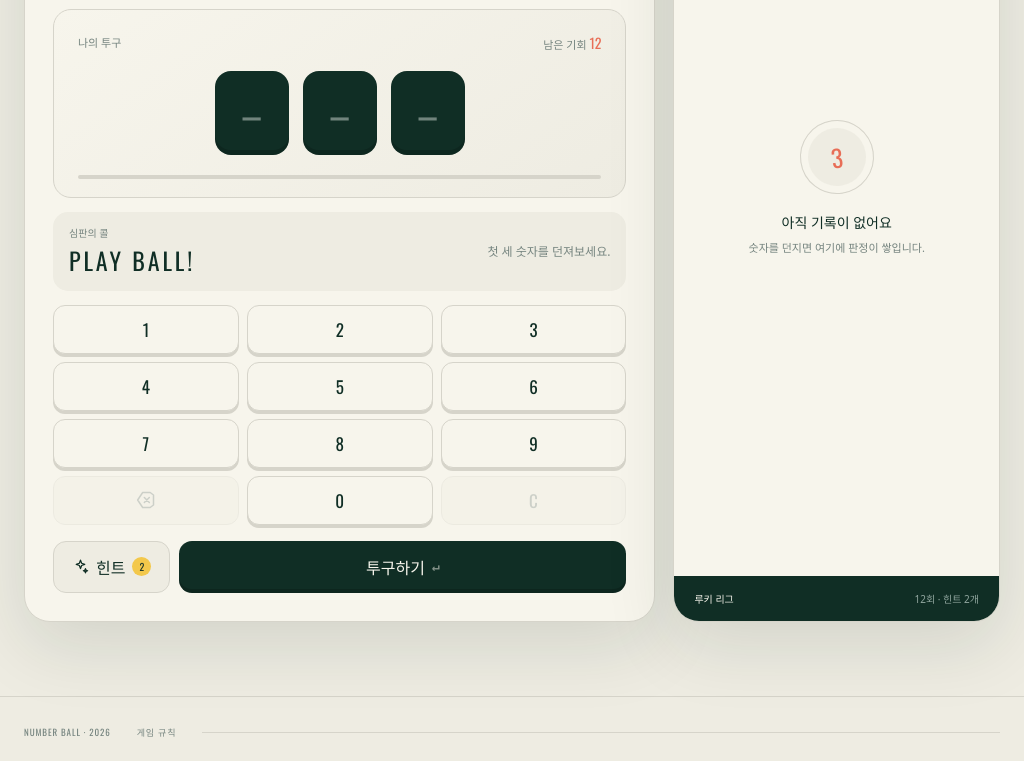
Test: App › uses a hint and persists the eliminated digit
This screenshot has width=1024, height=761.
(page scrolled)
What coordinates should you click on to do the following:
click the button "힌트 2"
I would click on:
 (112, 567)
Its box is x1=53 y1=541 x2=170 y2=593.
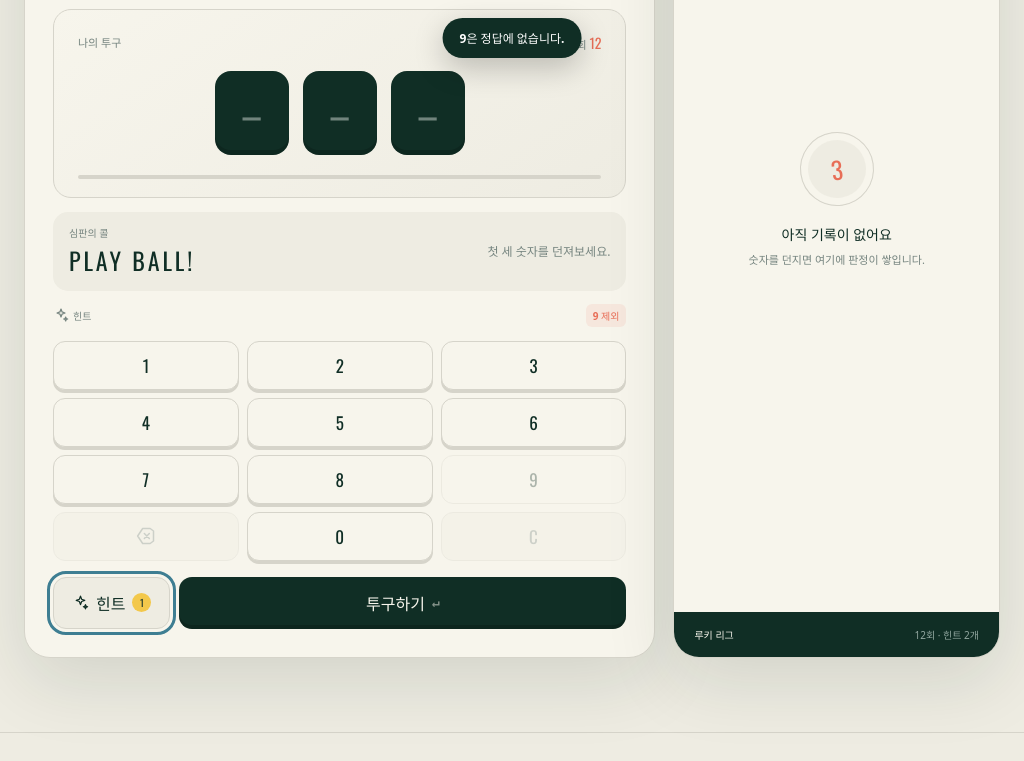
Expected: the text "9 제외" is shown, x1=586 y1=304 x2=626 y2=327
